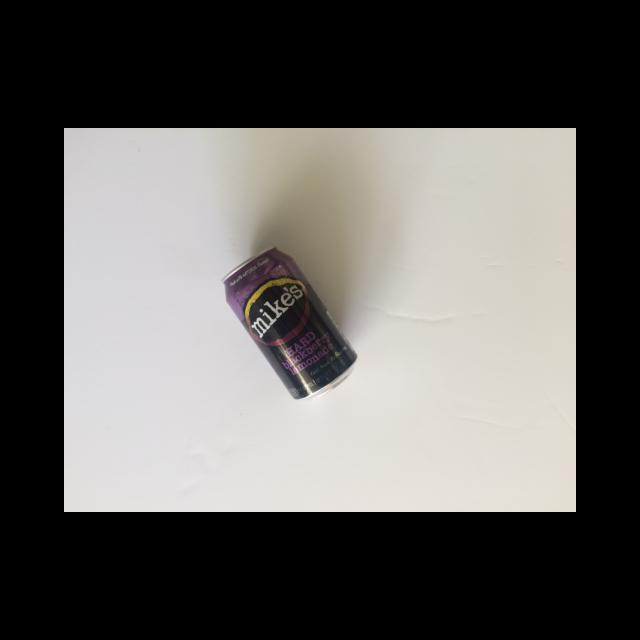metal: (220, 246, 357, 400)
